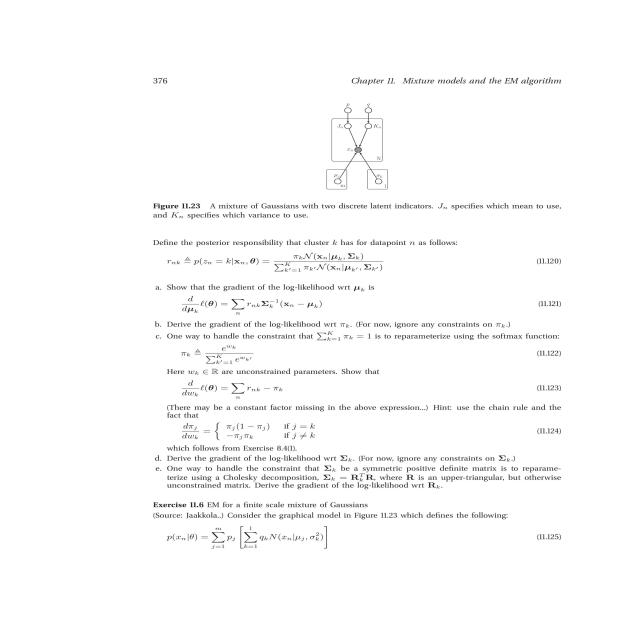diagram: (122, 88, 587, 227)
